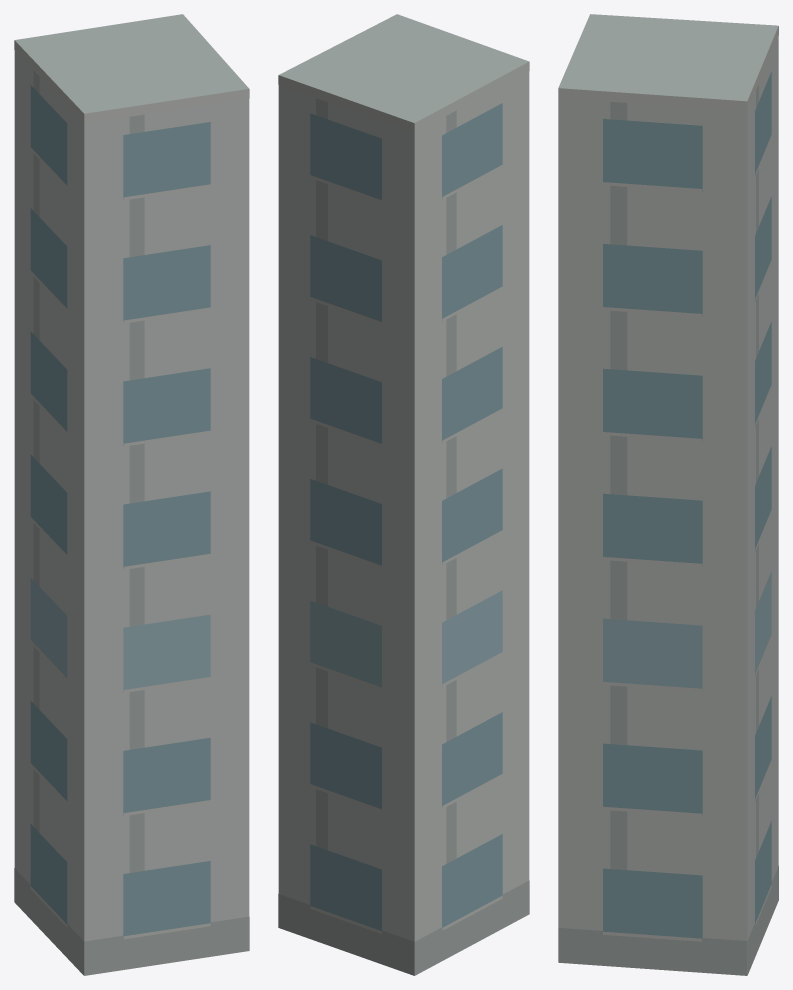
File: survey-upis-33046988.glb
3 views of the same model, side by side, from view 1: azimuth 30°, elevation 25°; view 2: azimuth 150°, elevation 25°; view 3: azimuth 270°, elevation 25° (orthographic). The views are drawn at different scales.
Visible parts, largest first — view 1: survey-upis-33046988.tmp; view 2: survey-upis-33046988.tmp; view 3: survey-upis-33046988.tmp.
Part boxes in pixels (x1,y1,x2,y2): survey-upis-33046988.tmp: [14, 14, 249, 975]; survey-upis-33046988.tmp: [278, 14, 529, 975]; survey-upis-33046988.tmp: [558, 14, 778, 975].
Size of the model in its own units: 4.58 by 21.35 by 4.89.
